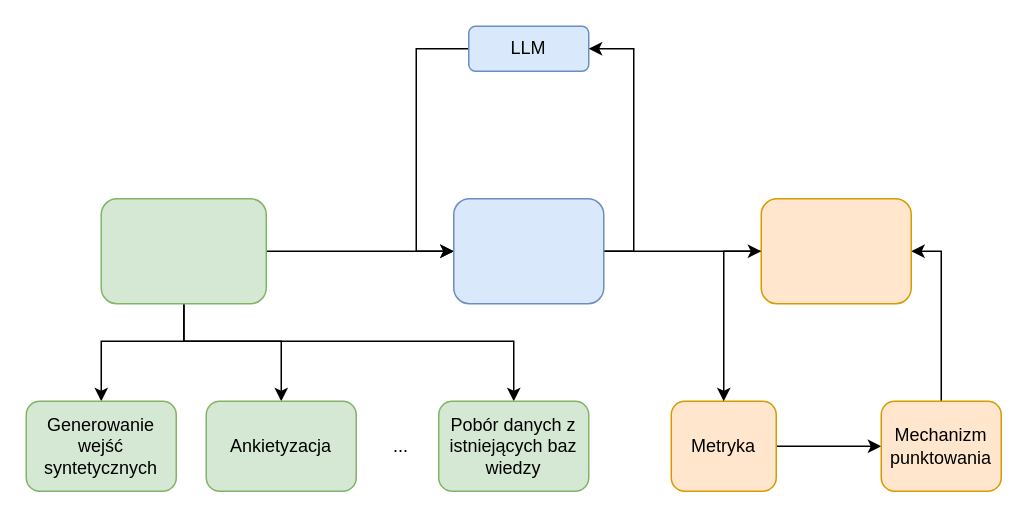
This 1028x518 diagram has some shape labels left out. The box of each missing label's shape, as (x1, y1, x2, y2) in pixels:
1. Przygotowanie datasetu: (100, 197, 266, 304)
2. Generowanie odpowiedzi: (452, 197, 604, 304)
3. Punktowanie: (760, 197, 911, 304)
